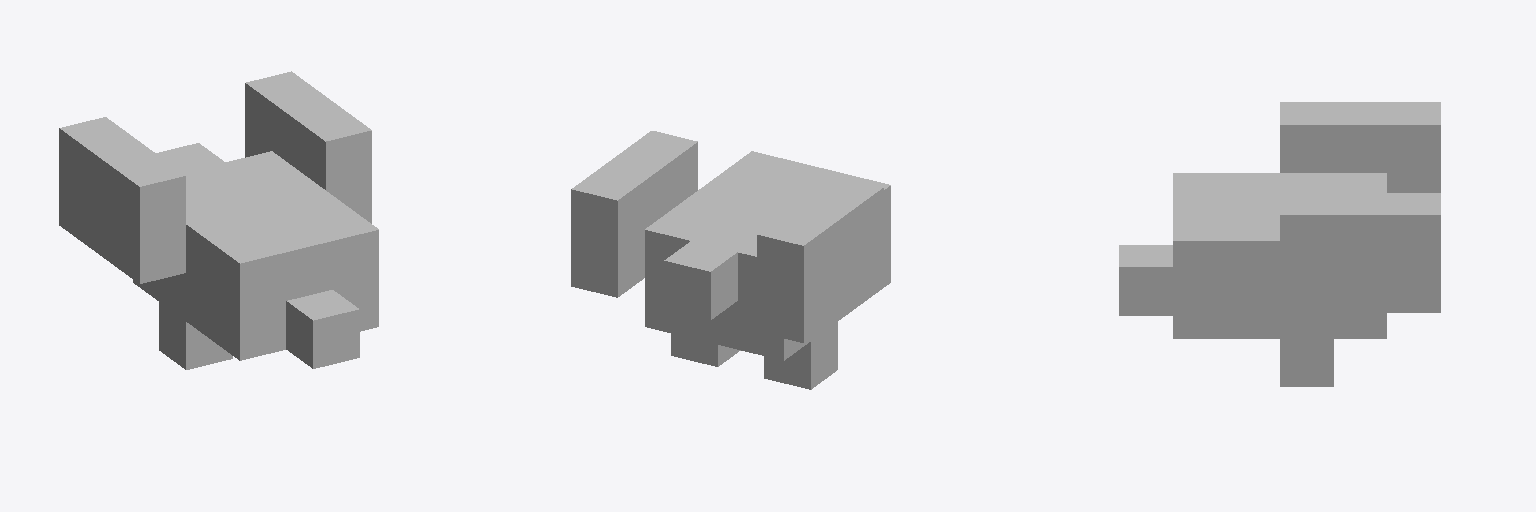
3 renders of one model, left to right at view 1: azimuth 30°, elevation 25°; view 2: azimuth 150°, elevation 25°; view 3: azimuth 270°, elevation 25°, orthographic.
Visible parts, largest first — view 1: bird_idle_01; view 2: bird_idle_01; view 3: bird_idle_01.
Part boxes in pixels (left/top/right/bottom): bird_idle_01: left=59, top=71, right=378, bottom=369; bird_idle_01: left=571, top=131, right=890, bottom=389; bird_idle_01: left=1119, top=102, right=1440, bottom=386.
Size of the model in its own units: 0.3125 by 0.25 by 0.375.